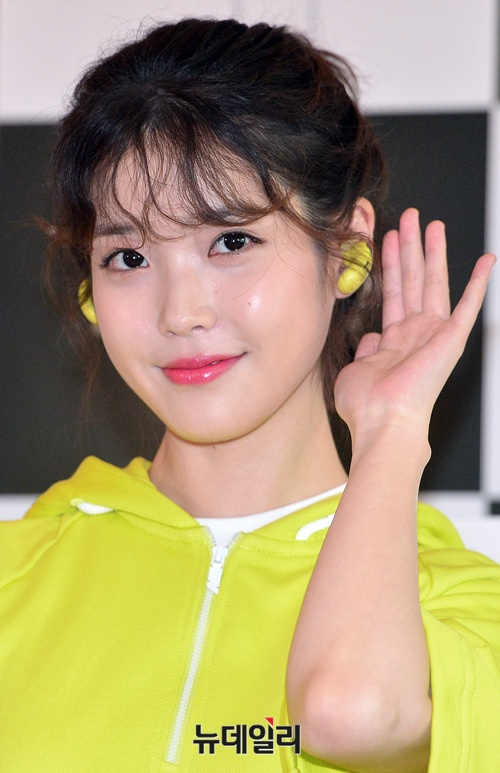earphone: (330, 195, 376, 297)
